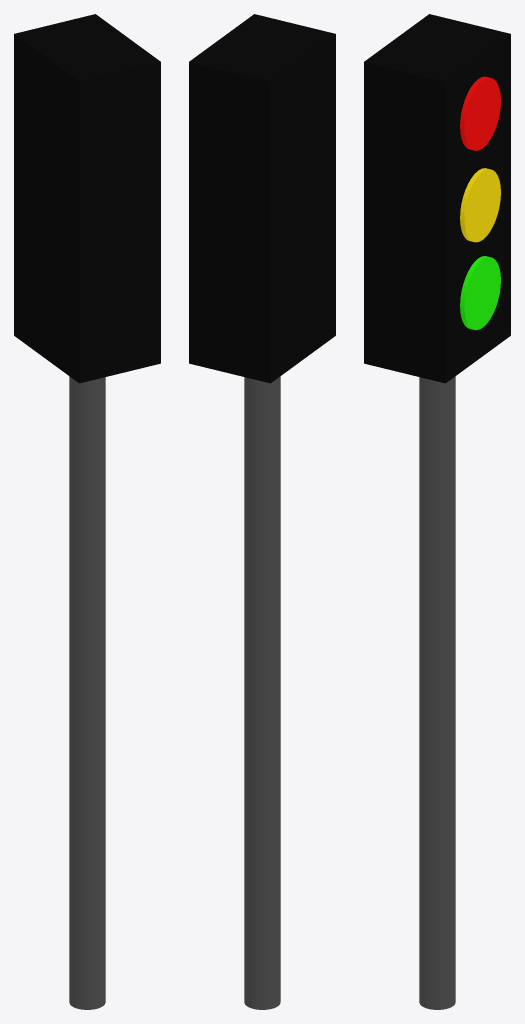
Rendered from stylized_low_poly_traffic_light_-_game_ready.glb.
The picture shows the model from 3 angles, left to right: view 1: azimuth 30°, elevation 25°; view 2: azimuth 150°, elevation 25°; view 3: azimuth 330°, elevation 25°; orthographic projection.
Size of the model in its own units: 0.4862 by 5.16 by 0.6391.
